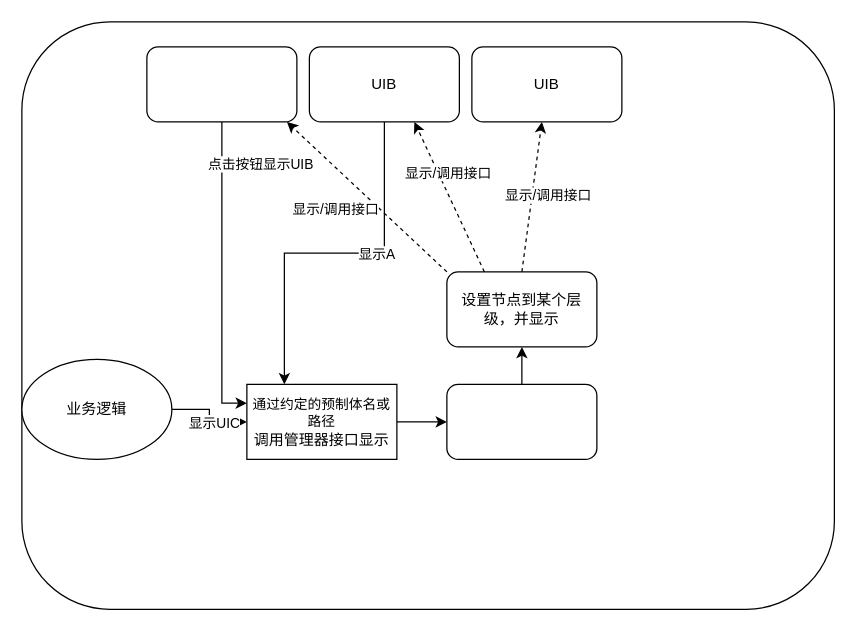
The diagram is 856 pixels wide and 631 high, and some of its shapes have lost their labels. The shapes that lost their labels are listed below. From the top down, each one's centre as x and y in pixels, then its label:
At point (221, 84): "UIA".
At point (521, 421): "加载预制体，取出组件实例缓存，或者缓存节点对象".
